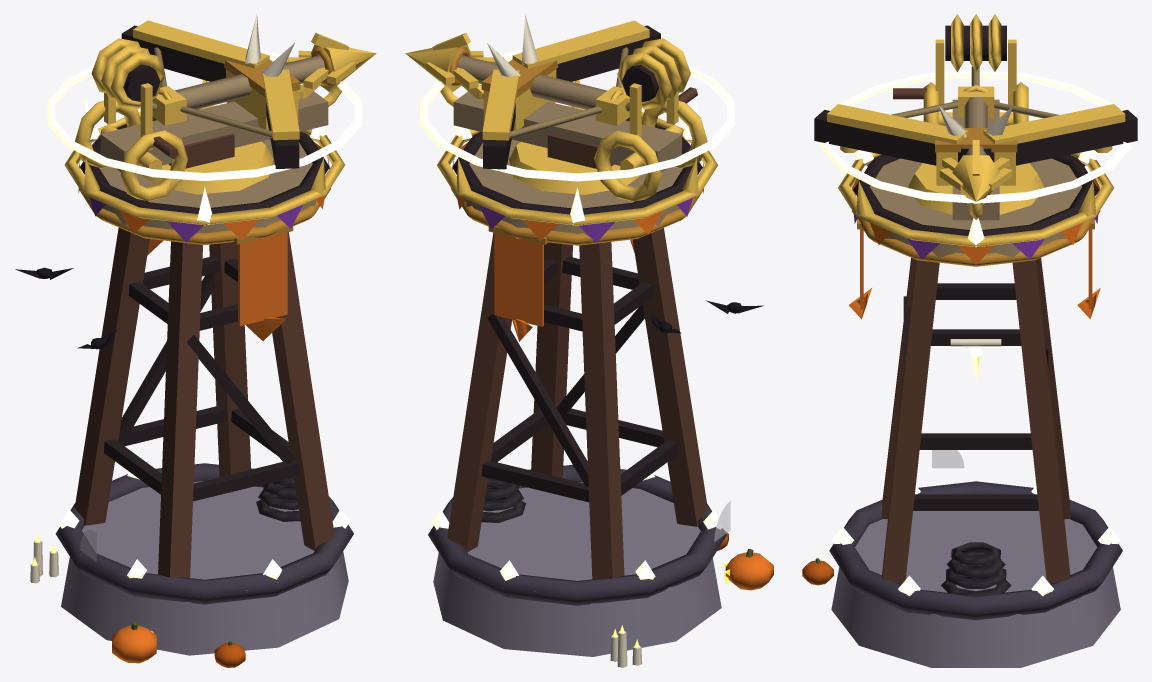
The model's file is tower_ballista_dragonSlayer_ultimate.glb.
The picture shows the model from 3 angles, left to right: view 1: azimuth 30°, elevation 25°; view 2: azimuth 150°, elevation 25°; view 3: azimuth 270°, elevation 25°; orthographic projection.
Parts seen in each view (by area): view 1: base, leg_wn, base_rim, leg_ws, leg_en, leg_es, stock, banner_n, deck, ult_halo, ult_crown_band, deck_rim (+34 smaller); view 2: base, leg_ws, leg_wn, base_rim, leg_es, leg_en, stock, banner_s, deck, ult_halo, ult_crown_band, brace_b (+33 smaller); view 3: base, base_rim, leg_en, leg_es, deck, ult_halo, ult_crown_band, deck_rim, bow_arm_l, bow_arm_r, bow_plate_r, bow_plate_l (+28 smaller).
Part boxes in pixels (x1,y1,x2,y2): base: (61, 481, 348, 655); leg_wn: (158, 241, 202, 577); base_rim: (55, 463, 353, 604); leg_ws: (74, 227, 149, 525); leg_en: (272, 232, 334, 550); leg_es: (209, 242, 250, 476); stock: (100, 85, 328, 171); banner_n: (238, 232, 287, 325); deck: (86, 139, 315, 236); ult_halo: (47, 47, 361, 180); ult_crown_band: (64, 105, 344, 225); deck_rim: (80, 117, 329, 213); base: (433, 482, 721, 656); leg_ws: (579, 242, 624, 579); leg_wn: (632, 228, 707, 526); base_rim: (428, 464, 726, 605); leg_es: (447, 232, 511, 551); leg_en: (531, 242, 572, 477); stock: (453, 85, 681, 172); banner_s: (494, 233, 543, 326); deck: (466, 139, 695, 236); ult_halo: (420, 47, 734, 181); ult_crown_band: (437, 105, 717, 225); brace_b: (487, 314, 588, 487); base: (831, 511, 1120, 667); base_rim: (829, 481, 1122, 620); leg_en: (882, 260, 939, 583); leg_es: (1012, 259, 1070, 583); deck: (870, 158, 1082, 257); ult_halo: (821, 70, 1130, 203); ult_crown_band: (838, 152, 1113, 247); deck_rim: (853, 154, 1098, 235); bow_arm_l: (814, 110, 968, 165); bow_arm_r: (983, 110, 1137, 165); bow_plate_r: (983, 104, 1125, 144); bow_plate_l: (827, 104, 968, 144).
Bounding box in the file's own units: 0.5169 × 0.851 × 0.4638.
